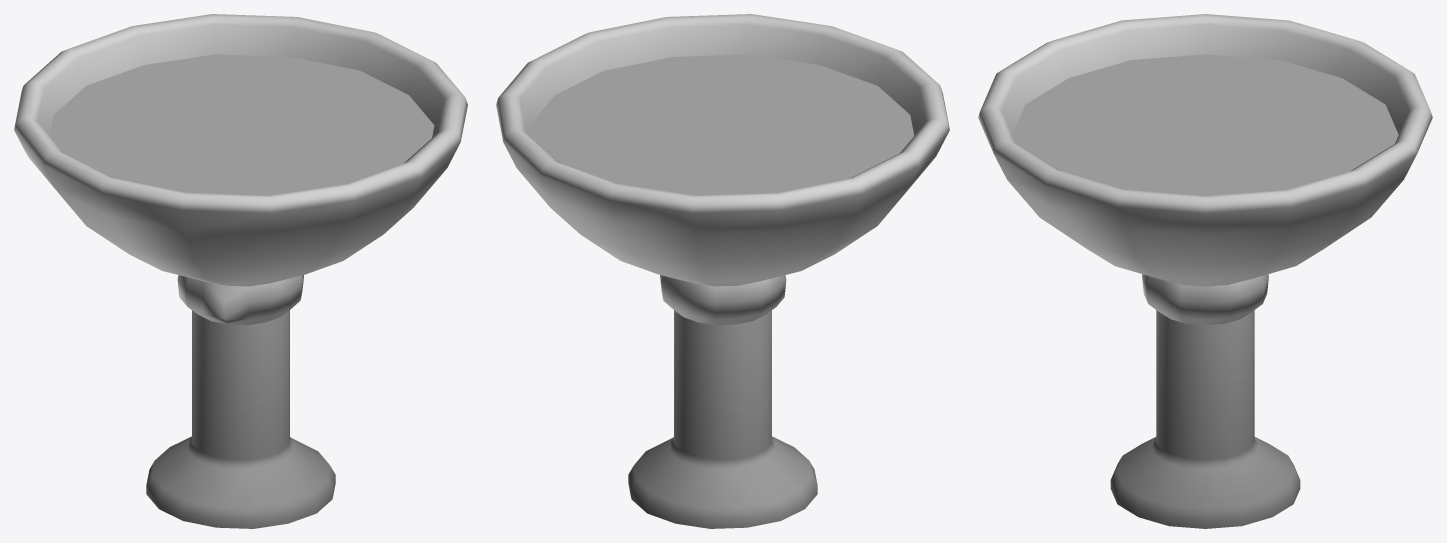
The model's file is SM_Fountain.fbx.
3 renders of one model, left to right at view 1: azimuth 30°, elevation 25°; view 2: azimuth 150°, elevation 25°; view 3: azimuth 270°, elevation 25°, orthographic.
Visible parts, largest first — view 1: SM_Fountain; view 2: SM_Fountain; view 3: SM_Fountain.
Part boxes in pixels (x1,y1,x2,y2): SM_Fountain: (14,14,467,528); SM_Fountain: (496,14,949,528); SM_Fountain: (978,14,1432,528).
Bounding box in the file's own units: 146 × 135 × 146.
